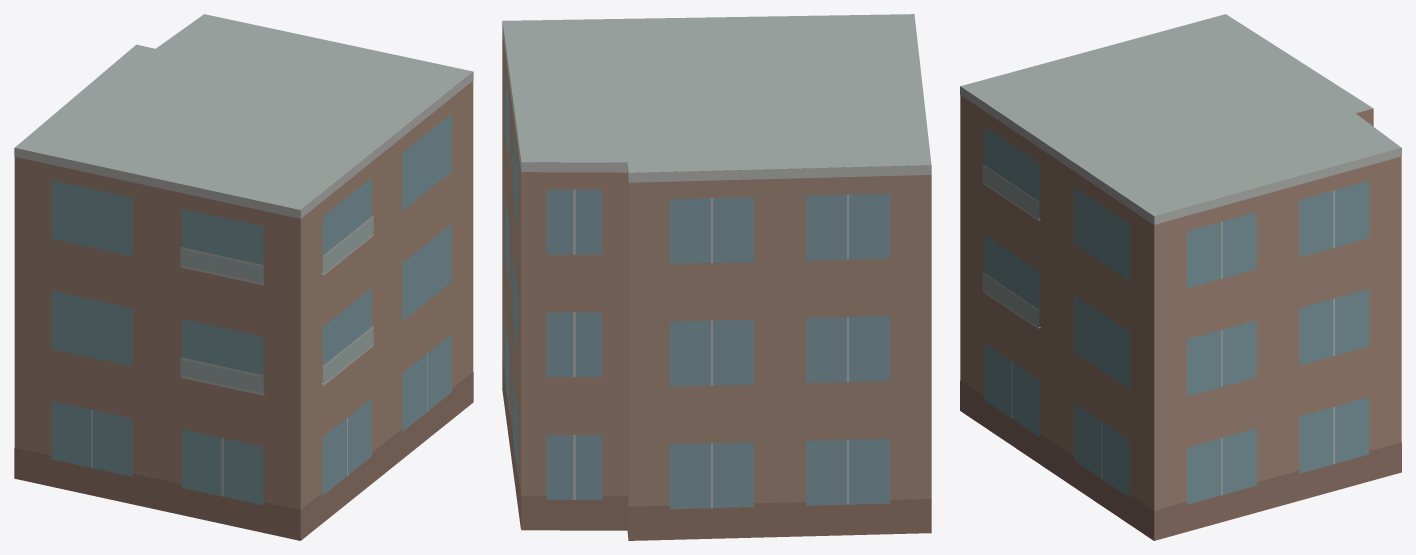
Rendered from survey-upis-32792689.glb.
3 renders of one model, left to right at view 1: azimuth 30°, elevation 25°; view 2: azimuth 150°, elevation 25°; view 3: azimuth 270°, elevation 25°, orthographic. The views are drawn at different scales.
Parts seen in each view (by area): view 1: survey-upis-32792689.tmp; view 2: survey-upis-32792689.tmp; view 3: survey-upis-32792689.tmp.
Part boxes in pixels (x1,y1,x2,y2): survey-upis-32792689.tmp: (14, 14, 473, 540); survey-upis-32792689.tmp: (502, 14, 931, 540); survey-upis-32792689.tmp: (960, 14, 1401, 540).
Size of the model in its own units: 12.24 by 9.15 by 11.29.
